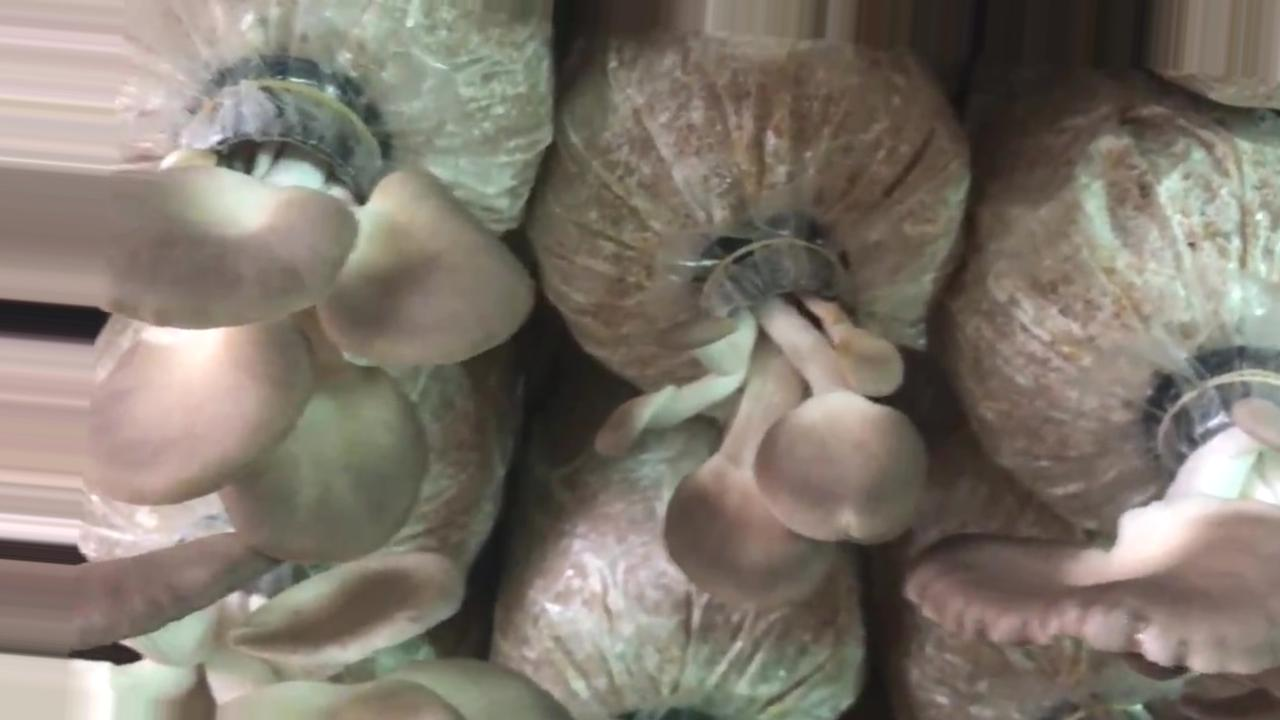nam: (91, 78, 536, 567), (603, 217, 927, 613), (930, 346, 1280, 676), (1, 530, 561, 720)
